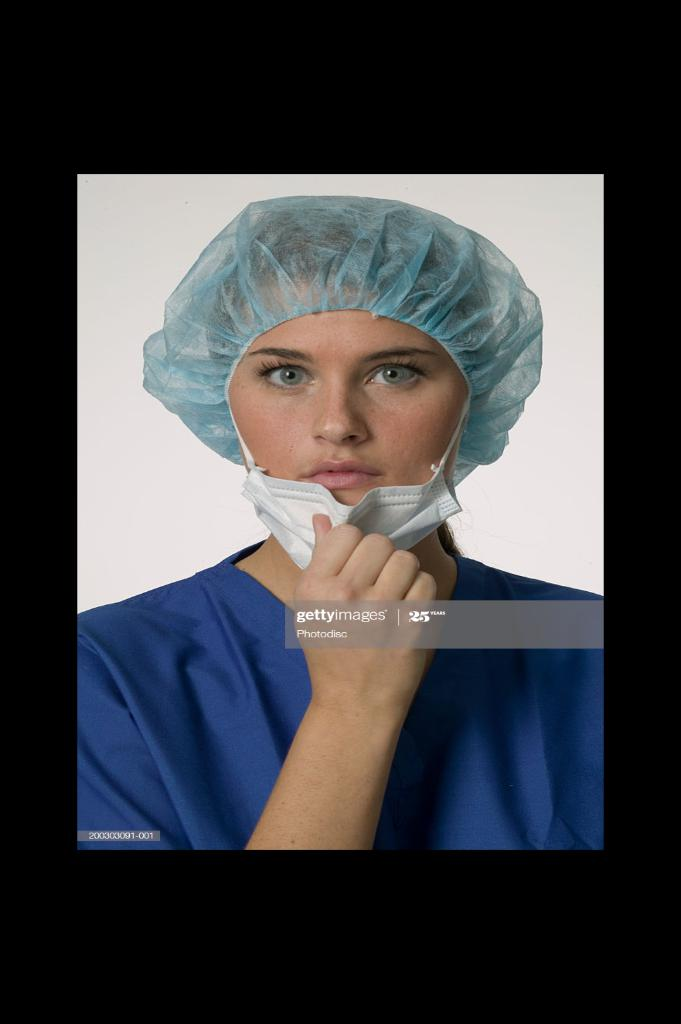mask_weared_incorrect: (250, 346, 456, 540)
